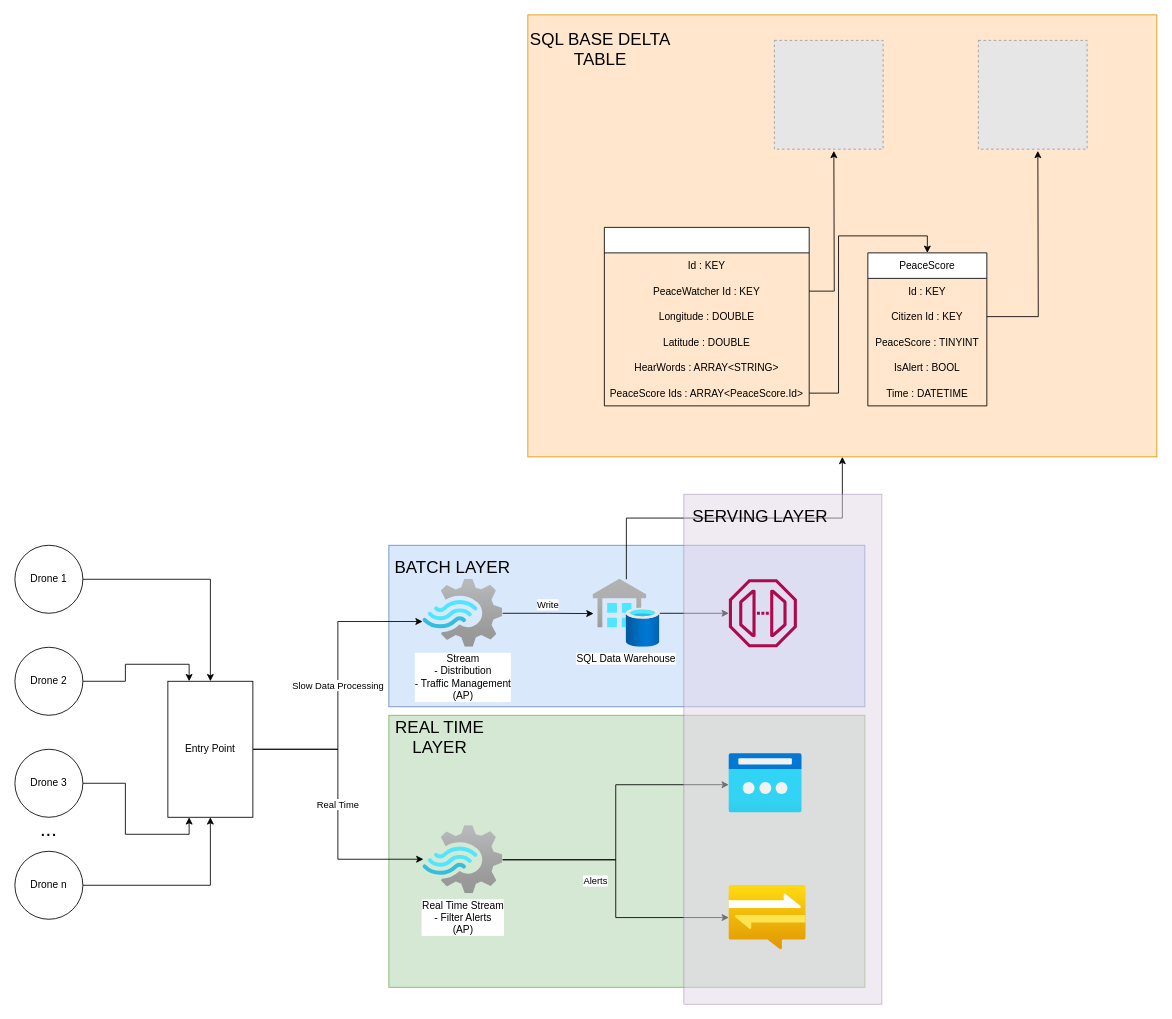
The diagram is 1172 pixels wide and 1019 high, and some of its shapes have lost their labels. Grey dashed boxes stand in for pictures. Each missing label, with the box of its shape:
API: (728, 579, 796, 647)
PeaceMakers Notification Hub: (728, 885, 806, 949)
Reports: (604, 227, 809, 406)
Web Interface for PeaceMakers: (728, 753, 802, 813)
